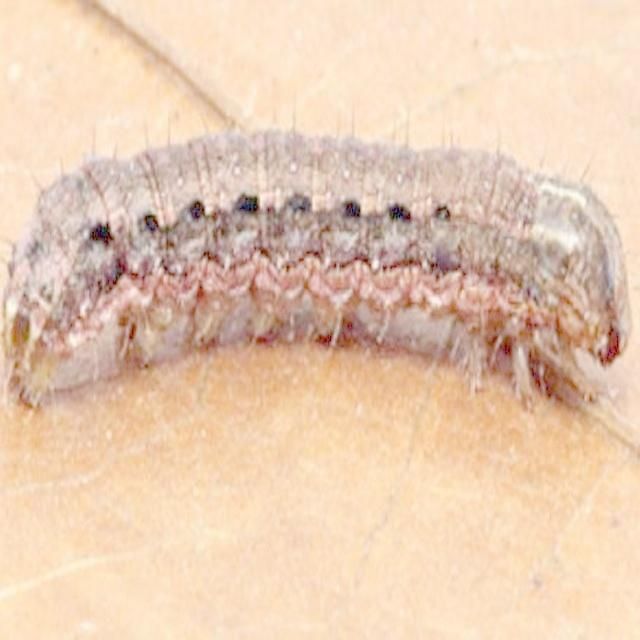gusano_cogollero: (12, 124, 625, 394)
